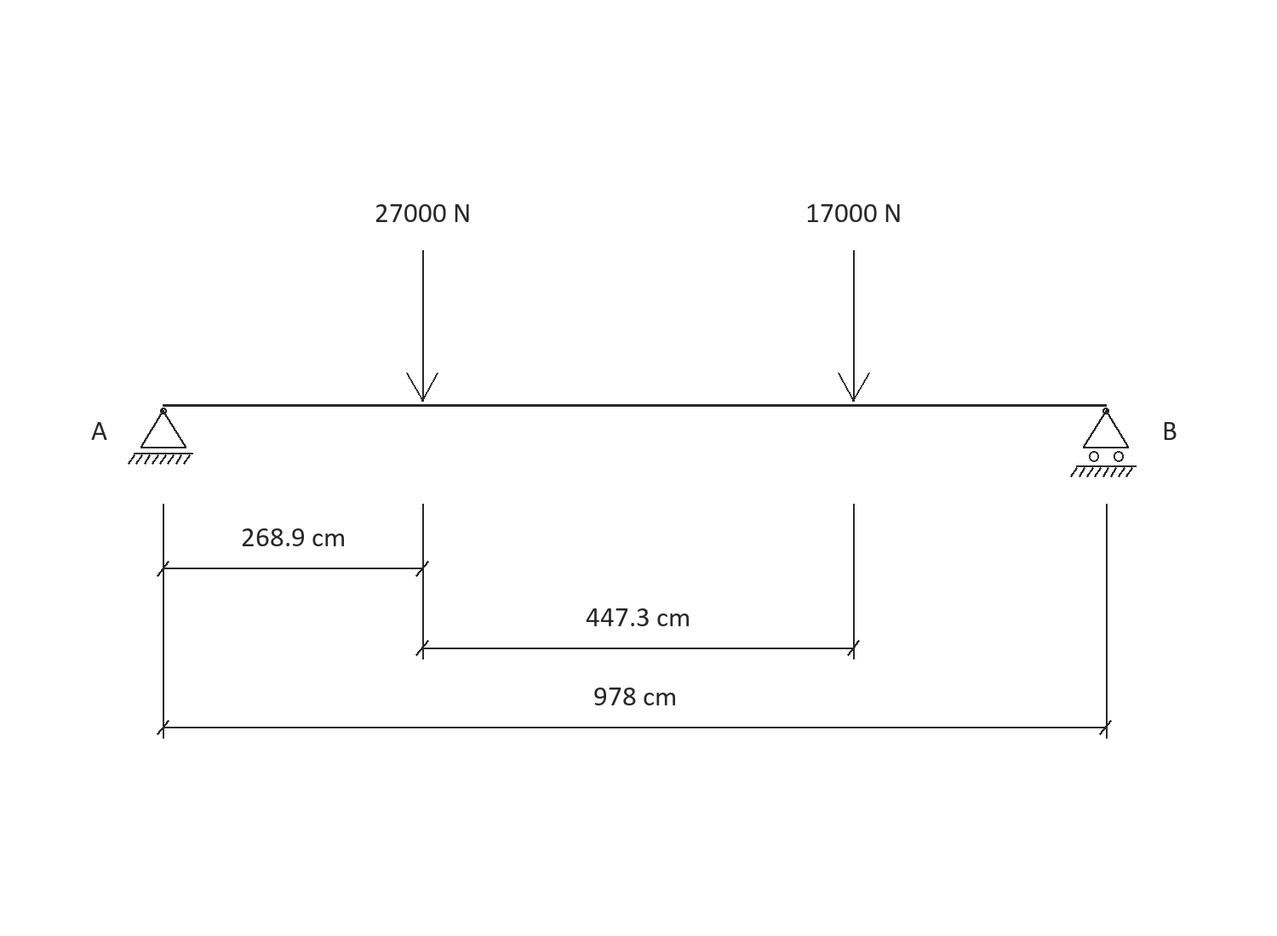pin_support: (128, 408, 193, 465)
point_load: (406, 250, 438, 402), (838, 250, 870, 402)
roller_support: (1070, 408, 1137, 477)
